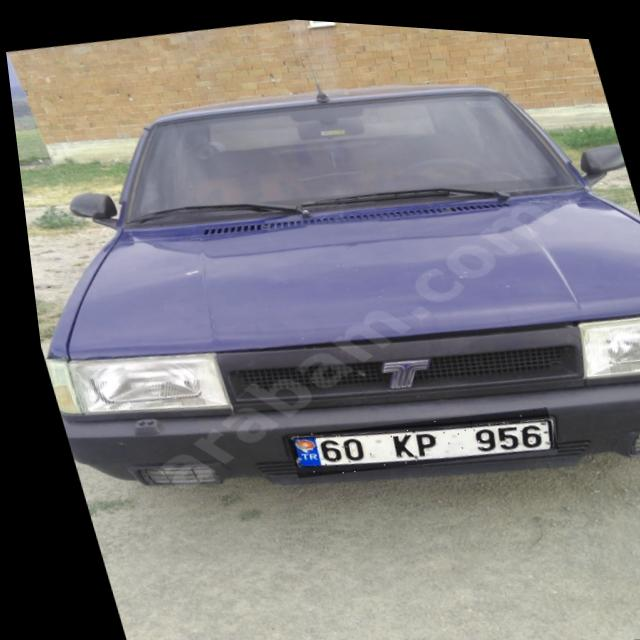license_plate: (272, 386, 553, 488)
